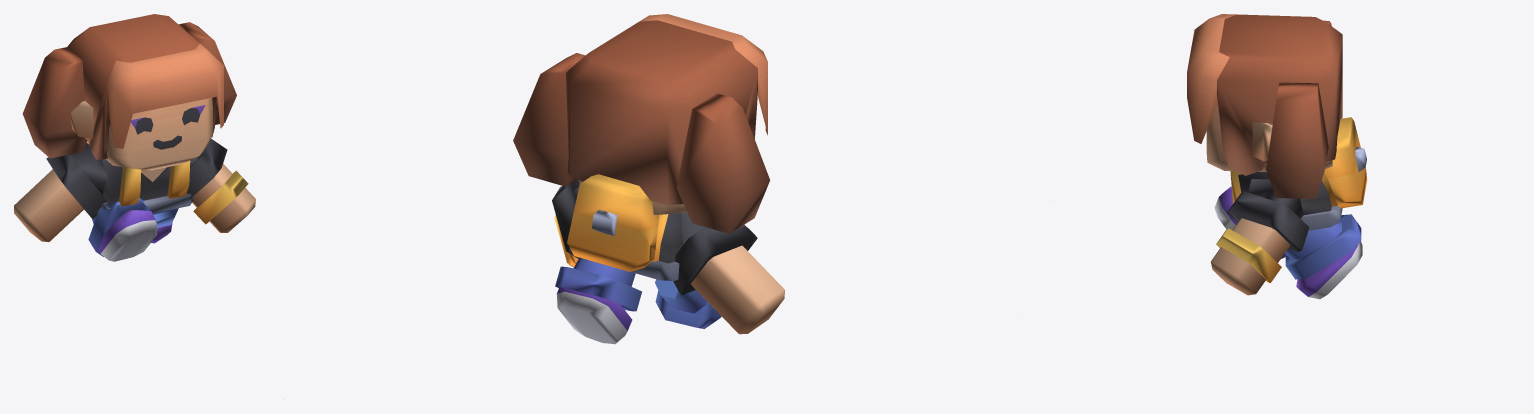
The model's file is climber_sprint_6.glb.
The picture shows the model from 3 angles, left to right: view 1: azimuth 30°, elevation 25°; view 2: azimuth 150°, elevation 25°; view 3: azimuth 270°, elevation 25°; orthographic projection. The views are drawn at different scales.
Visible parts, largest first — view 1: climber-sprint-6; view 2: climber-sprint-6; view 3: climber-sprint-6.
Part boxes in pixels (x1,y1,x2,y2): climber-sprint-6: (14, 14, 255, 261); climber-sprint-6: (513, 14, 784, 344); climber-sprint-6: (1187, 14, 1367, 299).
Size of the model in its own units: 1.2 by 0.7411 by 1.2.
1 material, 1 textured.
